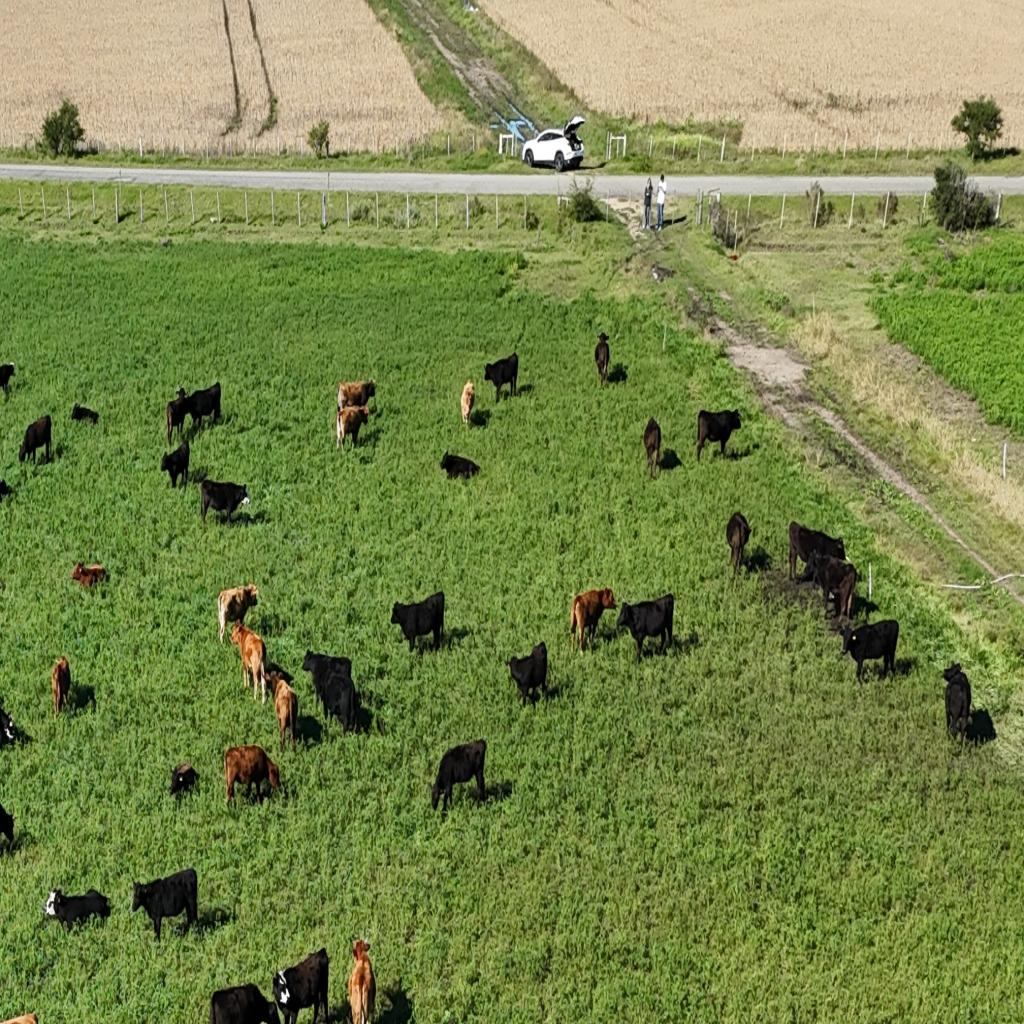cow: (131, 868, 198, 944), (431, 740, 489, 816), (271, 950, 328, 1024), (836, 617, 898, 685), (615, 595, 673, 664), (223, 744, 283, 810), (805, 550, 859, 622), (307, 665, 361, 733), (786, 521, 844, 584), (390, 592, 444, 657), (44, 885, 111, 933), (264, 668, 299, 752), (570, 587, 614, 653), (198, 478, 252, 530), (209, 982, 277, 1023), (232, 620, 266, 699), (217, 582, 259, 643), (506, 642, 546, 706), (942, 662, 972, 746), (696, 410, 738, 463), (348, 945, 376, 1024), (182, 381, 222, 434), (726, 514, 752, 583), (18, 414, 52, 466), (481, 354, 515, 405), (0, 694, 28, 750), (160, 438, 190, 490), (254, 652, 292, 693), (337, 405, 371, 450), (336, 380, 376, 414), (51, 654, 71, 718), (440, 450, 480, 482), (166, 388, 188, 446), (643, 416, 662, 480), (168, 763, 199, 799), (71, 562, 107, 592), (0, 794, 16, 852), (594, 333, 611, 387), (460, 380, 475, 426), (70, 403, 100, 425), (0, 362, 16, 398), (335, 407, 346, 449), (0, 478, 13, 503)
